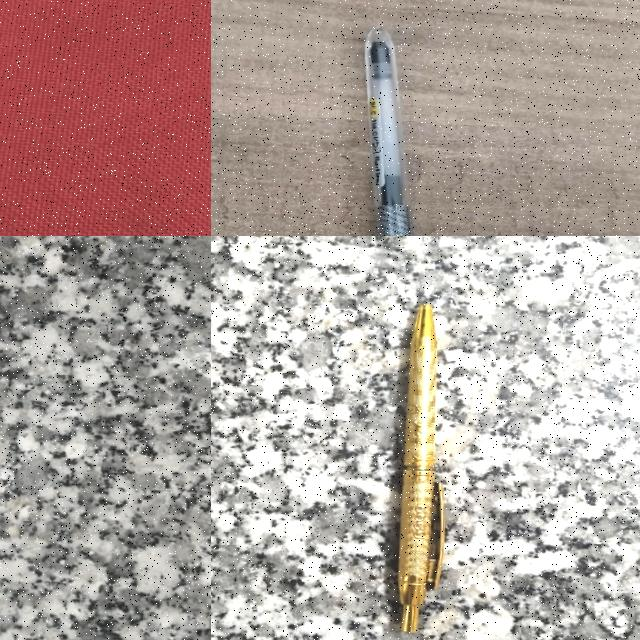pen: (364, 29, 410, 235)
signature pen: (398, 304, 444, 632)
